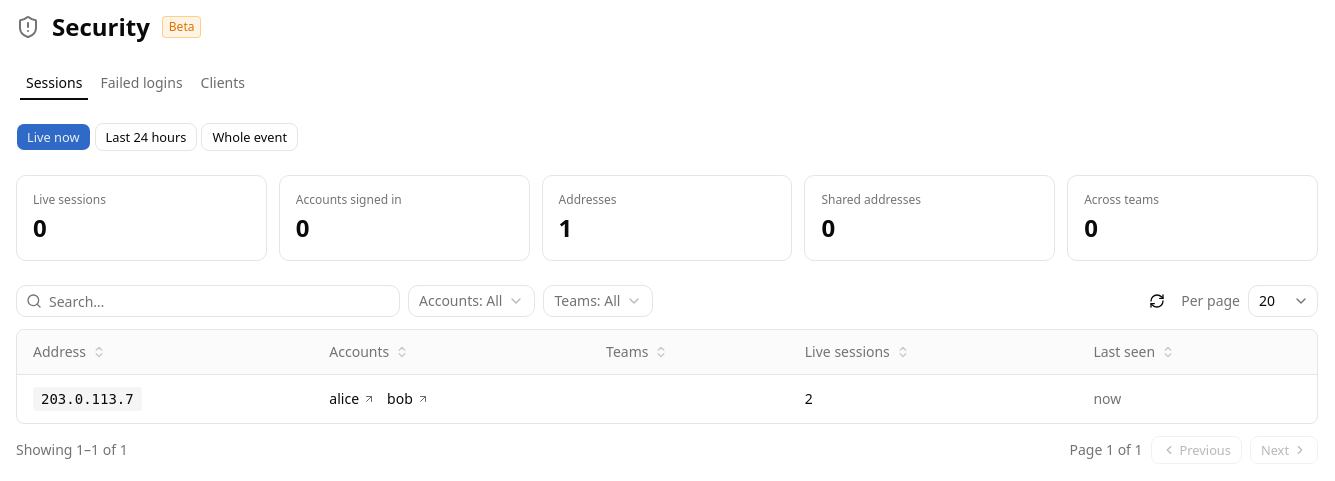
Test: links a rejected username that matches an account
Click the tab "Failed logins": (142, 83) [93,70,190,96]
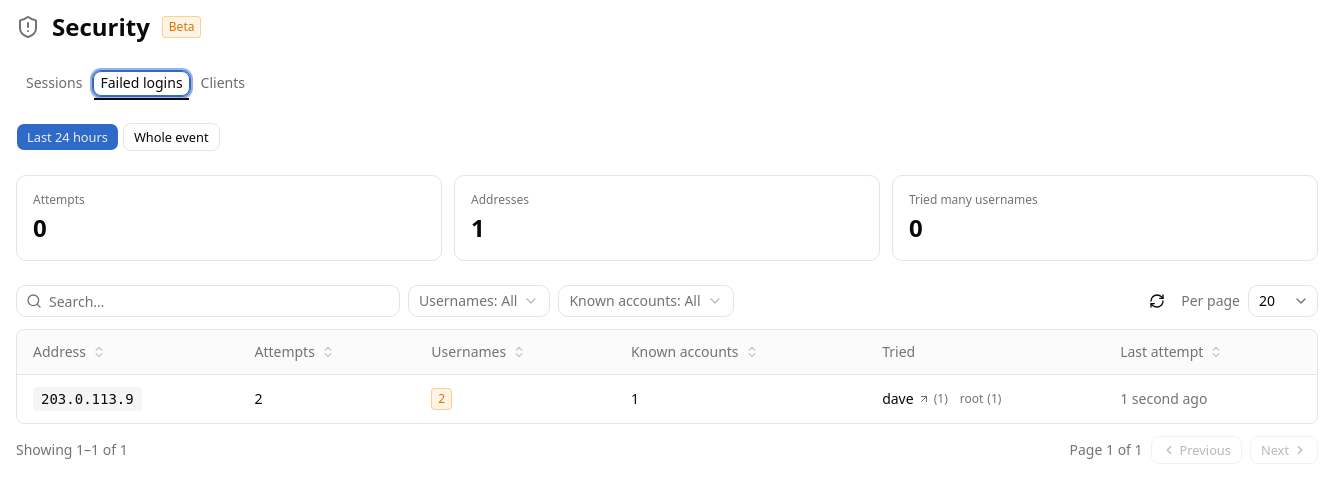
Now the link "dave" is shown, box [882,389,930,408]
